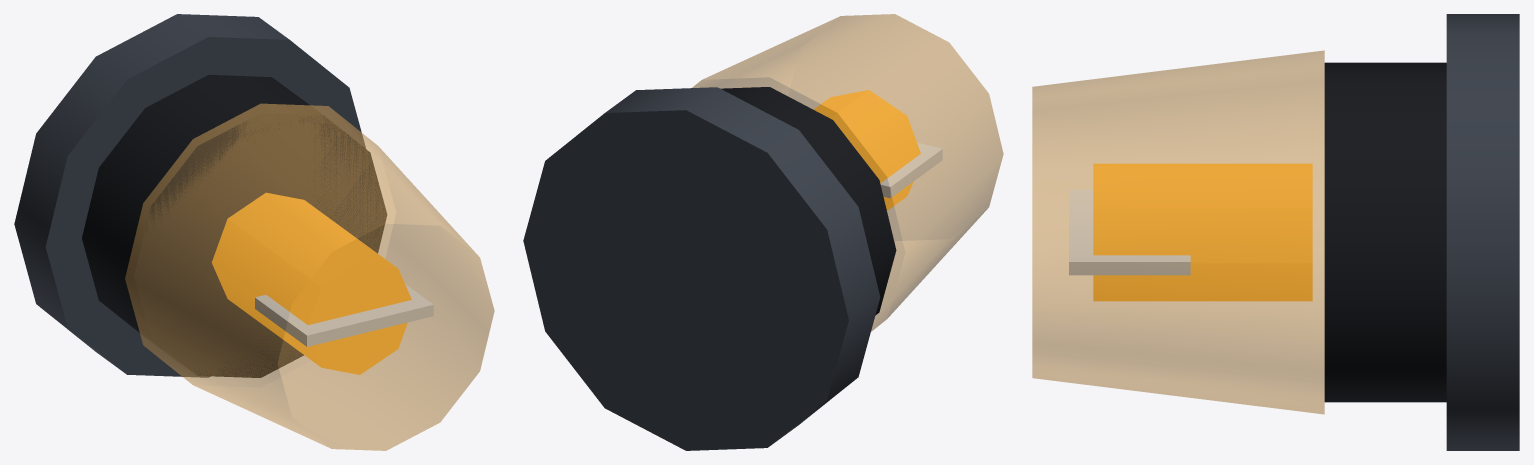
File: beacon_rotating_beacon.glb
3 renders of one model, left to right at view 1: azimuth 30°, elevation 25°; view 2: azimuth 150°, elevation 25°; view 3: azimuth 270°, elevation 25°, orthographic. The views are drawn at different scales.
Parts seen in each view (by area): view 1: beacon_rotating_beacon; view 2: beacon_rotating_beacon; view 3: beacon_rotating_beacon.
Part boxes in pixels (x1=…): beacon_rotating_beacon: x1=14, y1=14, x2=494, y2=450; beacon_rotating_beacon: x1=523, y1=14, x2=1003, y2=450; beacon_rotating_beacon: x1=1032, y1=14, x2=1519, y2=450.
Size of the model in its own units: 0.18 by 0.18 by 0.2.
